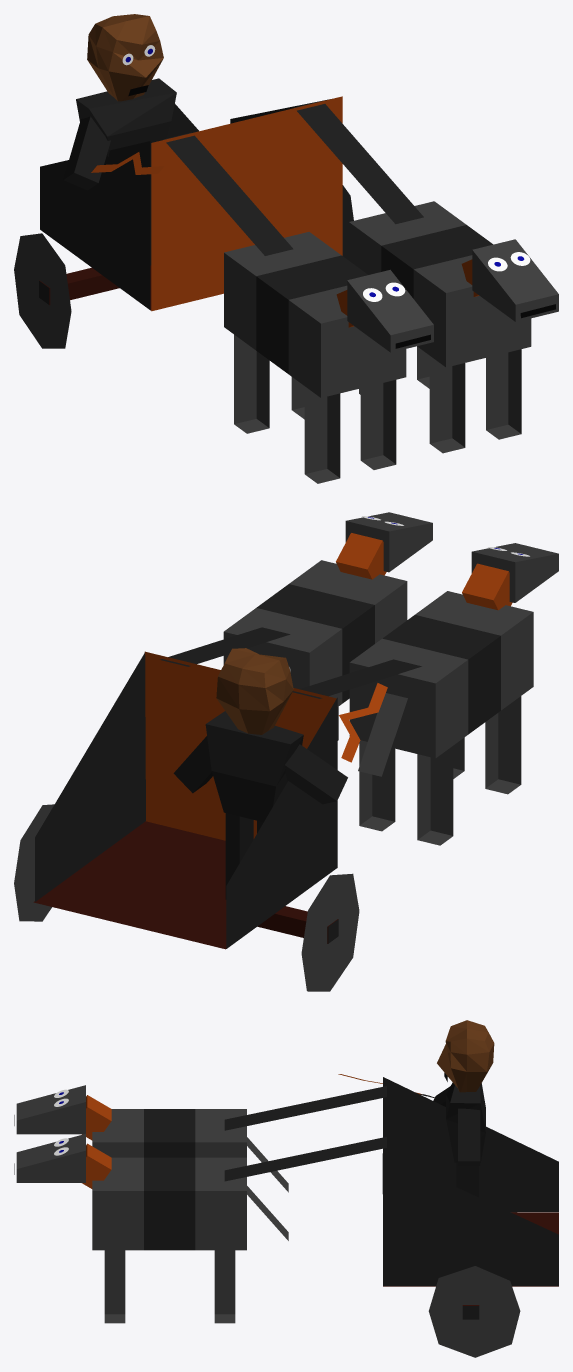
Rendered from heavychariot3fr.obj.
3 views of the same model, one above another, from view 1: azimuth 30°, elevation 25°; view 2: azimuth 150°, elevation 25°; view 3: azimuth 270°, elevation 25° (orthographic). The views are drawn at different scales.
Visible parts, largest first — view 1: Plane.005_Plane.006, Cube.015_Cube.017, Cube.006_Cube.009, Plane.003, Plane.007_Plane.008, Cube, Cube.001, Cube.014_Cube.016, Cube.021_Cube.023, Plane.012_Plane.013, Plane.013_Plane.014, Cube.012_Cube.014 (+8 smaller); view 2: Cube.015_Cube.017, Plane.002, Plane.004, Cube.006_Cube.009, Plane.005_Plane.006, Plane.003, Cube.001, Cube, Plane.007_Plane.008, Cube.016_Cube.018, Cube.019_Cube.021, Cube.014_Cube.016 (+13 smaller); view 3: Plane.004, Cube.006_Cube.009, Plane.003, Cube.015_Cube.017, Plane.006_Plane.007, Cube, Cube.021_Cube.023, Cube.014_Cube.016, Plane.013_Plane.014, Plane.012_Plane.013, Cube.010_Cube.012, Cube.011_Cube.013 (+6 smaller).
Part boxes in pixels (x1,y1,x2,y2): Plane.005_Plane.006: (151,96,342,311); Cube.015_Cube.017: (224,232,406,397); Cube.006_Cube.009: (349,201,531,367); Plane.003: (40,141,150,309); Plane.007_Plane.008: (14,233,71,348); Cube: (87,14,163,101); Cube.001: (76,78,176,179); Cube.014_Cube.016: (472,239,558,321); Cube.021_Cube.023: (347,269,433,352); Plane.012_Plane.013: (163,132,293,255); Plane.013_Plane.014: (294,100,423,224); Cube.012_Cube.014: (429,356,465,453); Cube.015_Cube.017: (349,591,533,758); Plane.002: (33,821,226,949); Plane.004: (35,653,145,901); Cube.006_Cube.009: (223,560,407,706); Plane.005_Plane.006: (144,651,336,840); Plane.003: (226,697,337,948); Cube.001: (205,711,303,822); Cube: (216,648,293,734); Plane.007_Plane.008: (301,873,359,991); Cube.016_Cube.018: (417,746,453,845); Cube.019_Cube.021: (485,696,521,794); Cube.014_Cube.016: (345,512,432,572); Plane.004: (382,1153,558,1285); Cube.006_Cube.009: (92,1157,246,1250); Plane.003: (383,1077,558,1211); Cube.015_Cube.017: (92,1109,246,1157); Plane.006_Plane.007: (428,1266,520,1357); Cube: (437,1020,494,1092); Cube.021_Cube.023: (16,1085,85,1134); Cube.014_Cube.016: (16,1134,85,1182); Plane.013_Plane.014: (224,1136,386,1181); Plane.012_Plane.013: (224,1086,386,1130); Cube.010_Cube.012: (214,1250,235,1323); Cube.011_Cube.013: (104,1250,125,1323).
Bounding box in the file's own units: 7.27 × 7.5 × 14.9.
